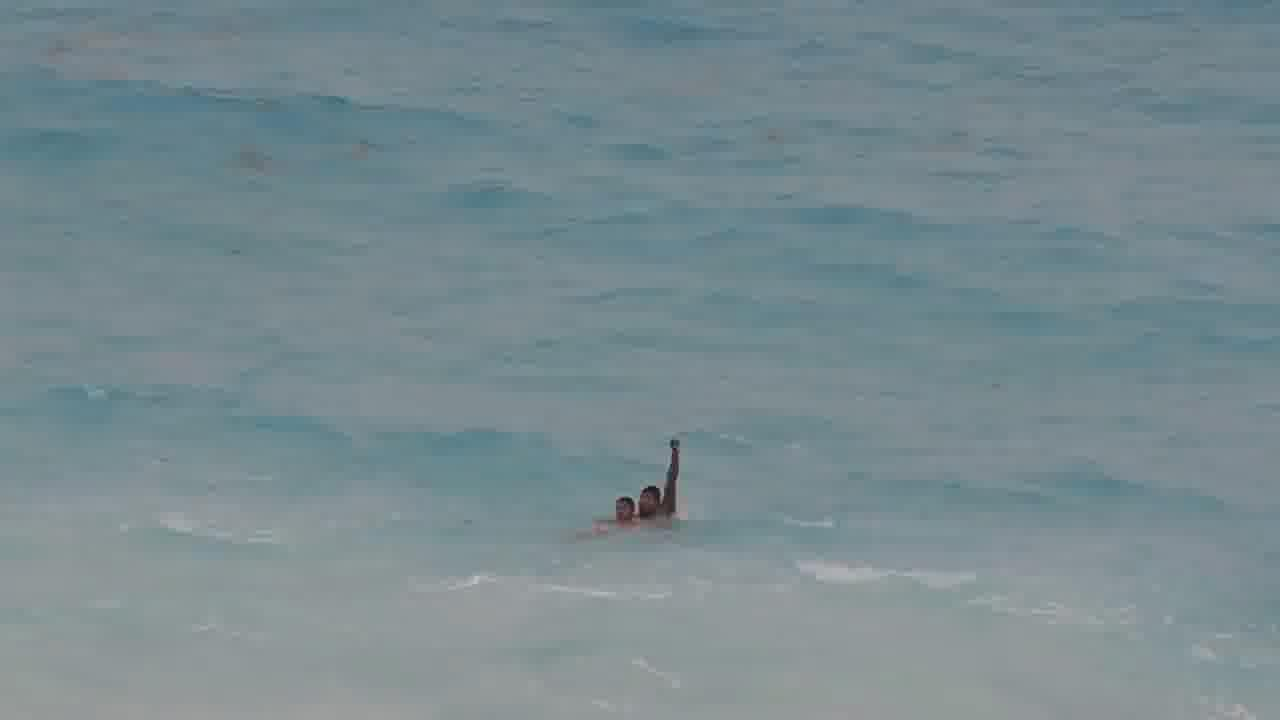human: (635, 448, 681, 531), (609, 484, 628, 528)
